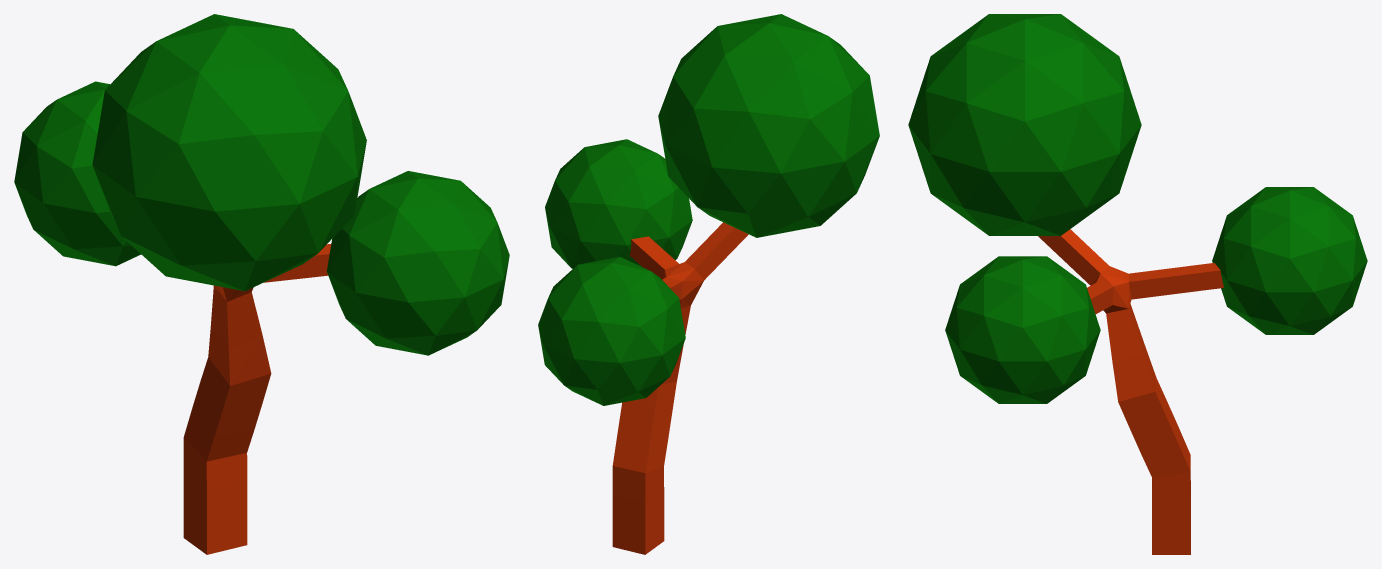
The model's file is tree.obj.
3 renders of one model, left to right at view 1: azimuth 30°, elevation 25°; view 2: azimuth 150°, elevation 25°; view 3: azimuth 270°, elevation 25°, orthographic. The views are drawn at different scales.
Visible parts, largest first — view 1: Icosphere.002, Icosphere, Cube, Icosphere.001; view 2: Icosphere.002, Icosphere.001, Icosphere, Cube; view 3: Icosphere.002, Icosphere, Icosphere.001, Cube.
Part boxes in pixels (<box>): Icosphere.002: <box>92,14,366,291</box>; Icosphere: <box>326,171,509,355</box>; Cube: <box>183,244,331,554</box>; Icosphere.001: <box>14,81,140,266</box>; Icosphere.002: <box>658,14,879,237</box>; Icosphere.001: <box>538,257,685,405</box>; Icosphere: <box>545,139,692,268</box>; Cube: <box>612,222,748,554</box>; Icosphere.002: <box>908,14,1141,235</box>; Icosphere: <box>945,256,1100,403</box>; Icosphere.001: <box>1212,187,1367,334</box>; Cube: <box>1038,229,1223,554</box>.
Bounding box in the file's own units: 4.69 × 7.06 × 5.91.
